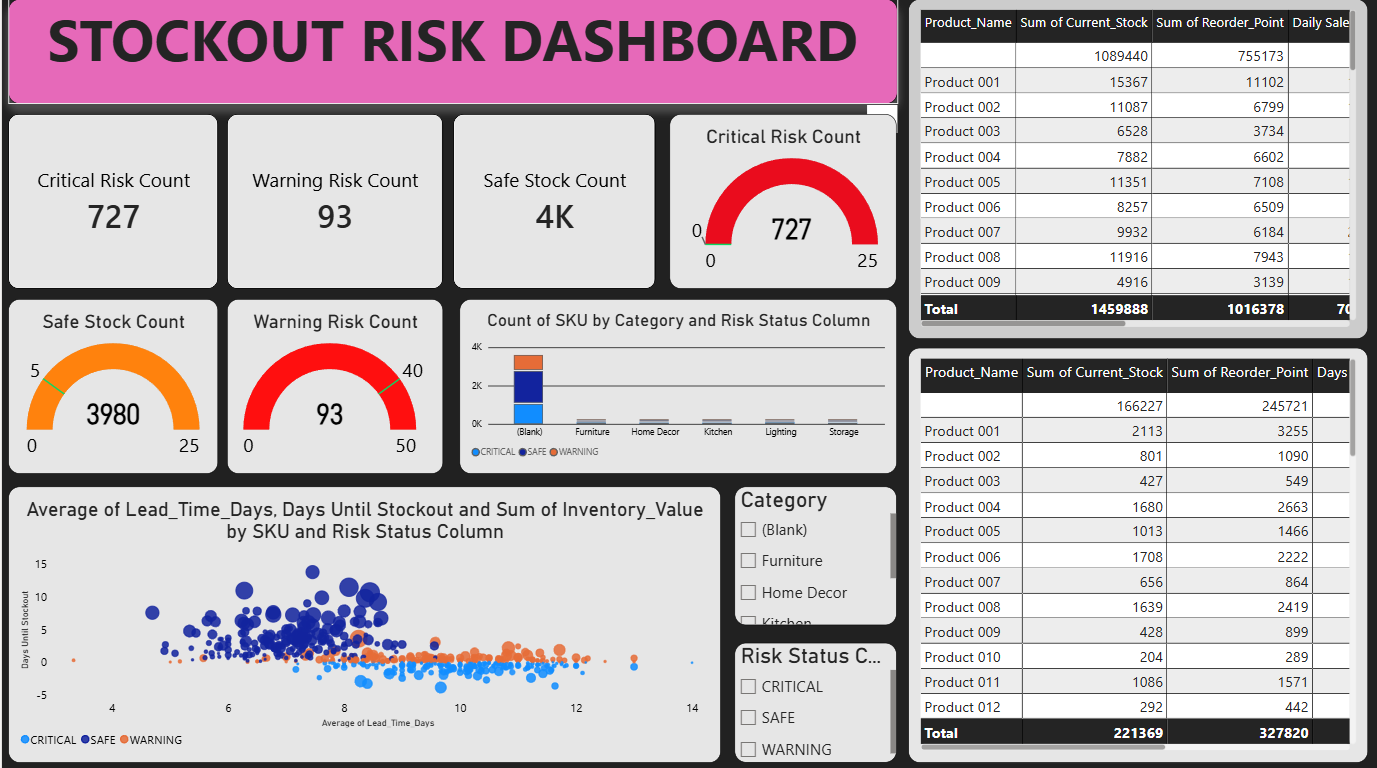

Layout of this report page (visuals, bound fields, positions):
{"tool":"powerbi","page":{"name":"Page 6","canvas":[1920,1080],"ordinal":5},"visuals":[{"type":"textbox","box":[9.4,0,1240.9,146.5],"z":0},{"type":"cardVisual","fields":{"Data":["_Measures.Critical Risk Count"]},"box":[8.7,160.5,293,244.2],"z":1},{"type":"cardVisual","fields":{"Data":["_Measures.Warning Risk Count"]},"box":[314,160.5,301.7,244.2],"z":2},{"type":"cardVisual","fields":{"Data":["_Measures.Safe Stock Count"]},"box":[629.7,160.5,282.6,244.2],"z":3},{"type":"tableEx","fields":{"Values":["sku_master (2).Product_Name","Sum(inventory_snapshots.Current_Stock)","Sum(inventory_snapshots.Reorder_Point)","_Measures.Daily Sales Avg","_Measures.Days Until Stockout","_Measures.Action","_Measures.Risk Status","Sum(inventory_snapshots.Lead_Time_Days)"]},"box":[1264.5,0,641.9,474.4],"z":4},{"type":"gauge","fields":{"Y":["_Measures.Critical Risk Count"]},"box":[931.4,160.5,317,244],"z":5},{"type":"gauge","fields":{"Y":["_Measures.Safe Stock Count"]},"box":[8.7,418.6,293,244.2],"z":6},{"type":"gauge","fields":{"Y":["_Measures.Warning Risk Count"]},"box":[314,418.6,301.7,244.2],"z":7},{"type":"columnChart","fields":{"Category":["sku_master (2).Category"],"Series":["inventory_snapshots.Risk Status Column"],"Y":["CountNonNull(inventory_snapshots.SKU)"]},"box":[638.4,418.6,610.5,244.2],"z":8},{"type":"scatterChart","fields":{"Category":["inventory_snapshots.SKU"],"Series":["inventory_snapshots.Risk Status Column"],"Size":["Sum(inventory_snapshots.Inventory_Value)"],"X":["Avg(inventory_snapshots.Lead_Time_Days)"],"Y":["_Measures.Days Until Stockout"]},"box":[8.7,680.2,994.2,385.5],"z":9},{"type":"tableEx","fields":{"Values":["sku_master (2).Product_Name","Sum(inventory_snapshots.Current_Stock)","Sum(inventory_snapshots.Reorder_Point)","_Measures.Days Until Stockout","_Measures.Urgent","_Measures.Recommended_Order_Qty"]},"box":[1264.5,486.6,641.9,579.1],"z":10},{"type":"slicer","fields":{"Values":["sku_master (2).Category"]},"box":[1022.1,680.2,226.7,193.6],"z":11},{"type":"slicer","fields":{"Values":["inventory_snapshots.Risk Status Column"]},"box":[1022.1,898.3,226.7,167.4],"z":12}]}

Visuals, with their boxes in screenshot pixels (x1, y1, x2, y2), scaled from the page's 1920x1080 canvas onto the 1377x768 screenshot:
textbox: box(7, 0, 897, 104)
cardVisual - _Measures.Critical Risk Count: box(6, 114, 216, 288)
cardVisual - _Measures.Warning Risk Count: box(225, 114, 442, 288)
cardVisual - _Measures.Safe Stock Count: box(452, 114, 654, 288)
tableEx - sku_master (2).Product_Name x Sum(inventory_snapshots.Current_Stock): box(907, 0, 1367, 337)
gauge - _Measures.Critical Risk Count: box(668, 114, 895, 288)
gauge - _Measures.Safe Stock Count: box(6, 298, 216, 471)
gauge - _Measures.Warning Risk Count: box(225, 298, 442, 471)
columnChart - sku_master (2).Category x inventory_snapshots.Risk Status Column: box(458, 298, 896, 471)
scatterChart - inventory_snapshots.SKU x inventory_snapshots.Risk Status Column: box(6, 484, 719, 758)
tableEx - sku_master (2).Product_Name x Sum(inventory_snapshots.Current_Stock): box(907, 346, 1367, 758)
slicer - sku_master (2).Category: box(733, 484, 896, 621)
slicer - inventory_snapshots.Risk Status Column: box(733, 639, 896, 758)
